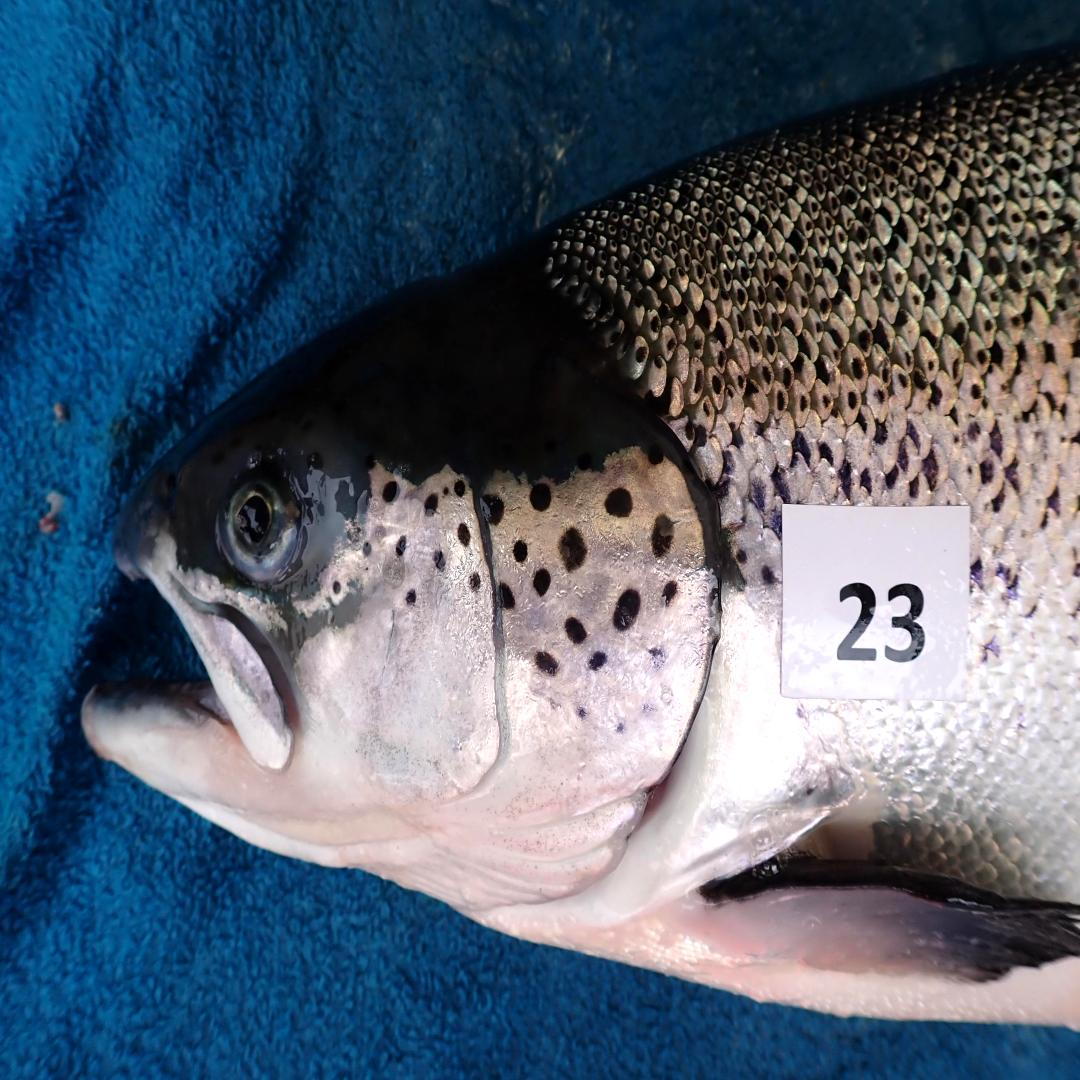spot: (559, 526, 586, 571), (614, 588, 641, 630), (652, 515, 673, 557), (605, 487, 633, 518), (483, 495, 504, 526), (534, 650, 559, 675), (529, 484, 551, 512), (565, 616, 586, 644), (534, 568, 551, 596), (371, 520, 390, 543), (662, 579, 677, 608), (500, 582, 515, 610), (382, 481, 399, 503), (589, 650, 608, 669), (424, 492, 439, 515), (613, 717, 629, 737), (513, 540, 527, 562), (650, 647, 664, 667), (458, 523, 470, 546), (441, 478, 454, 498), (454, 478, 466, 498), (397, 534, 407, 557), (468, 574, 481, 591), (435, 551, 445, 571), (331, 579, 342, 596), (363, 540, 373, 557), (405, 591, 416, 605), (578, 706, 589, 717)
